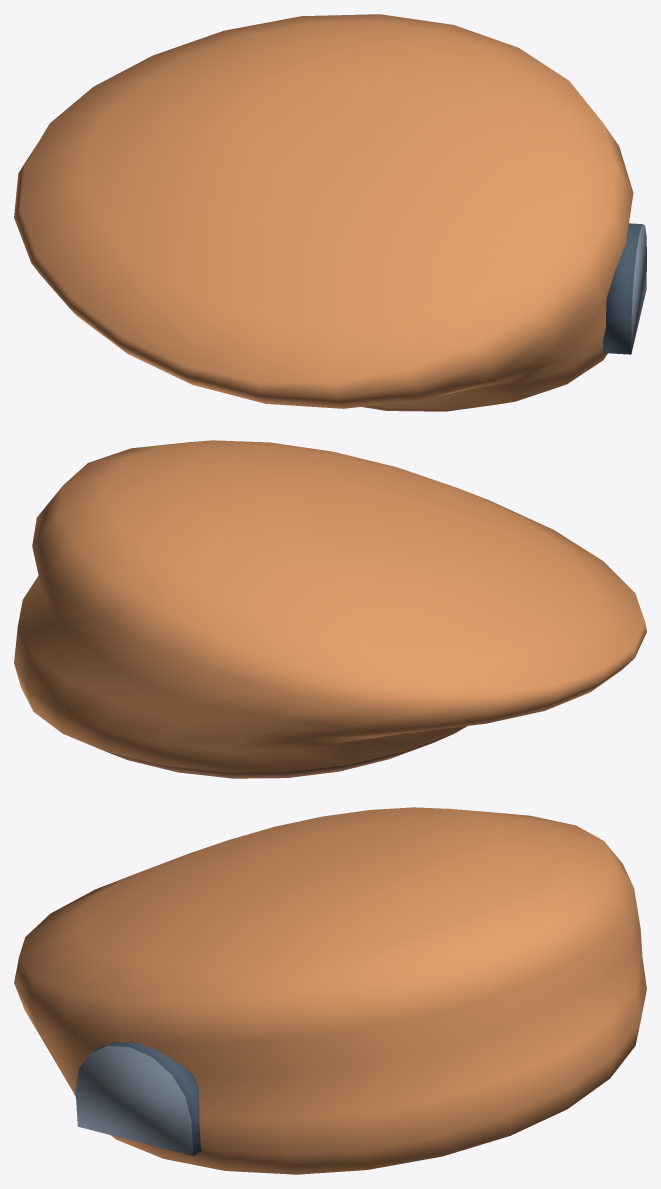
The model's file is militaryBeret.glb.
3 renders of one model, top to bottom at view 1: azimuth 30°, elevation 25°; view 2: azimuth 150°, elevation 25°; view 3: azimuth 270°, elevation 25°, orthographic.
Visible parts, largest first — view 1: militaryBeret; view 2: militaryBeret; view 3: militaryBeret.
Part boxes in pixels (left/top/right/bottom): militaryBeret: left=14, top=14, right=646, bottom=411; militaryBeret: left=14, top=440, right=646, bottom=778; militaryBeret: left=14, top=807, right=646, bottom=1174.
Bounding box in the file's own units: 1.13 × 0.467 × 1.14.
